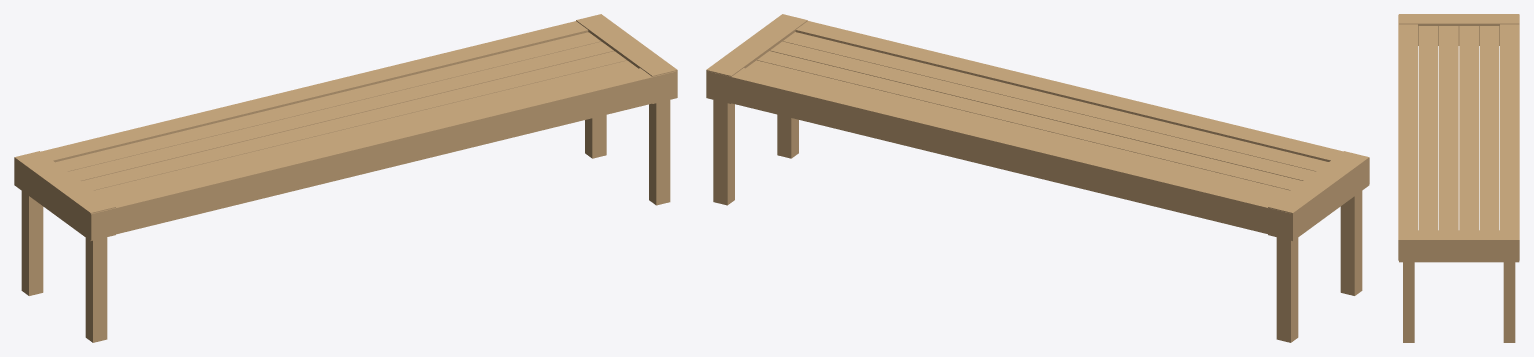
Rendered from table.obj.
The picture shows the model from 3 angles, left to right: view 1: azimuth 30°, elevation 25°; view 2: azimuth 150°, elevation 25°; view 3: azimuth 270°, elevation 25°; orthographic projection. The views are drawn at different scales.
Visible parts, largest first — view 1: Cube_3_1, Cube_3, Cube_1_2, Cube_1_1, Cube_1_3, Cube_1, Cube_2, tableleg_2, tableleg_3, Cube_2_1, tableleg_1, tableleg; view 2: Cube_3, Cube_3_1, Cube_1_3, Cube_1_2, Cube_1, Cube_1_1, Cube_2, tableleg_1, tableleg, Cube_2_1, tableleg_2, tableleg_3; view 3: Cube_1, Cube_1_1, Cube_3_1, Cube_3, Cube_1_2, Cube_1_3, Cube_2_1, Cube_2, tableleg, tableleg_3.
Boxes of the visible parts, x1=… form: Cube_3_1: x1=78, y1=68, x2=676, y2=240; Cube_3: x1=14, y1=21, x2=588, y2=190; Cube_1_2: x1=68, y1=41, x2=613, y2=180; Cube_1_1: x1=55, y1=32, x2=600, y2=171; Cube_1_3: x1=81, y1=51, x2=626, y2=190; Cube_1: x1=94, y1=60, x2=637, y2=198; Cube_2: x1=14, y1=151, x2=115, y2=240; tableleg_2: x1=85, y1=237, x2=107, y2=342; tableleg_3: x1=649, y1=100, x2=670, y2=205; Cube_2_1: x1=576, y1=14, x2=677, y2=103; tableleg_1: x1=21, y1=191, x2=43, y2=295; tableleg: x1=585, y1=115, x2=606, y2=158; Cube_3: x1=707, y1=68, x2=1305, y2=240; Cube_3_1: x1=795, y1=21, x2=1369, y2=183; Cube_1_3: x1=770, y1=41, x2=1315, y2=180; Cube_1_2: x1=757, y1=51, x2=1302, y2=190; Cube_1: x1=783, y1=32, x2=1328, y2=171; Cube_1_1: x1=746, y1=60, x2=1289, y2=198; Cube_2: x1=1268, y1=151, x2=1369, y2=240; tableleg_1: x1=1276, y1=237, x2=1298, y2=342; tableleg: x1=713, y1=100, x2=734, y2=205; Cube_2_1: x1=706, y1=14, x2=807, y2=103; tableleg_2: x1=1340, y1=191, x2=1362, y2=295; tableleg_3: x1=777, y1=114, x2=798, y2=158; Cube_1: x1=1418, y1=26, x2=1438, y2=230; Cube_1_1: x1=1479, y1=26, x2=1499, y2=230; Cube_3_1: x1=1398, y1=14, x2=1417, y2=260; Cube_3: x1=1500, y1=15, x2=1519, y2=260; Cube_1_2: x1=1459, y1=26, x2=1478, y2=230; Cube_1_3: x1=1439, y1=26, x2=1458, y2=230; Cube_2_1: x1=1399, y1=230, x2=1519, y2=262; Cube_2: x1=1399, y1=14, x2=1519, y2=45; tableleg: x1=1503, y1=262, x2=1515, y2=342; tableleg_3: x1=1403, y1=262, x2=1414, y2=342.
Size of the model in its own units: 3.27 by 0.708 by 0.7418.
